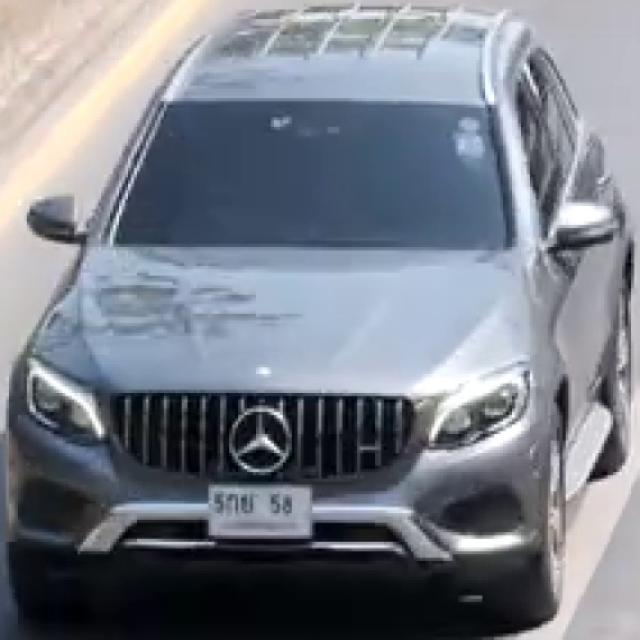plate: (209, 488, 312, 534)
